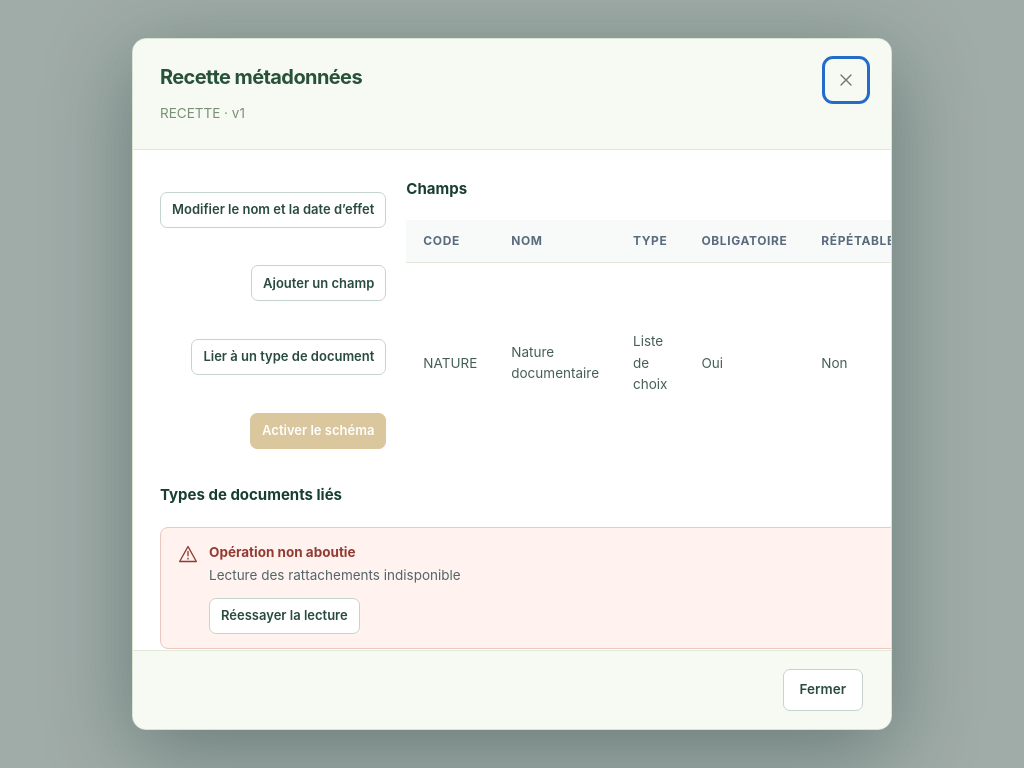
it: bloque l’activation sans rattachement et affiche une erreur de lecture récupérable
Expected: the message is shown, x1=160 y1=527 x2=892 y2=649
Expected: the button "Activer le schéma" is disabled, x1=250 y1=413 x2=386 y2=449
Click the button "Réessayer la lecture" at (284, 616), box x1=209 y1=598 x2=360 y2=634
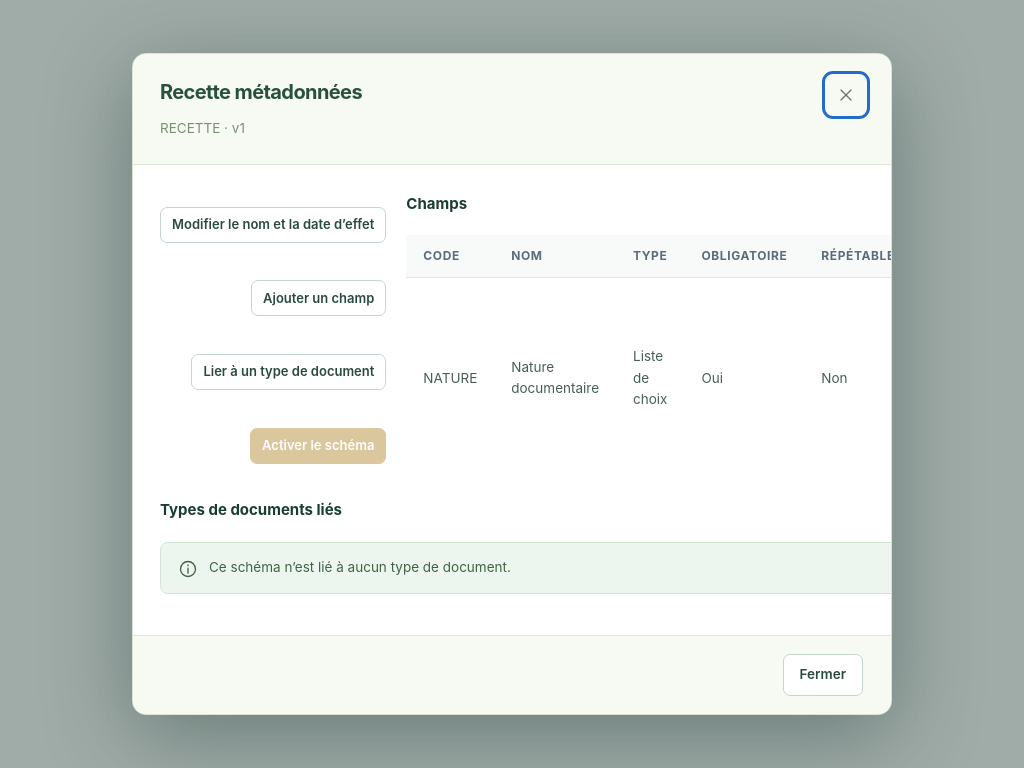
Expected: the text "Ce schéma n’est lié à aucun type de document." is shown, x1=209 y1=557 x2=511 y2=578
